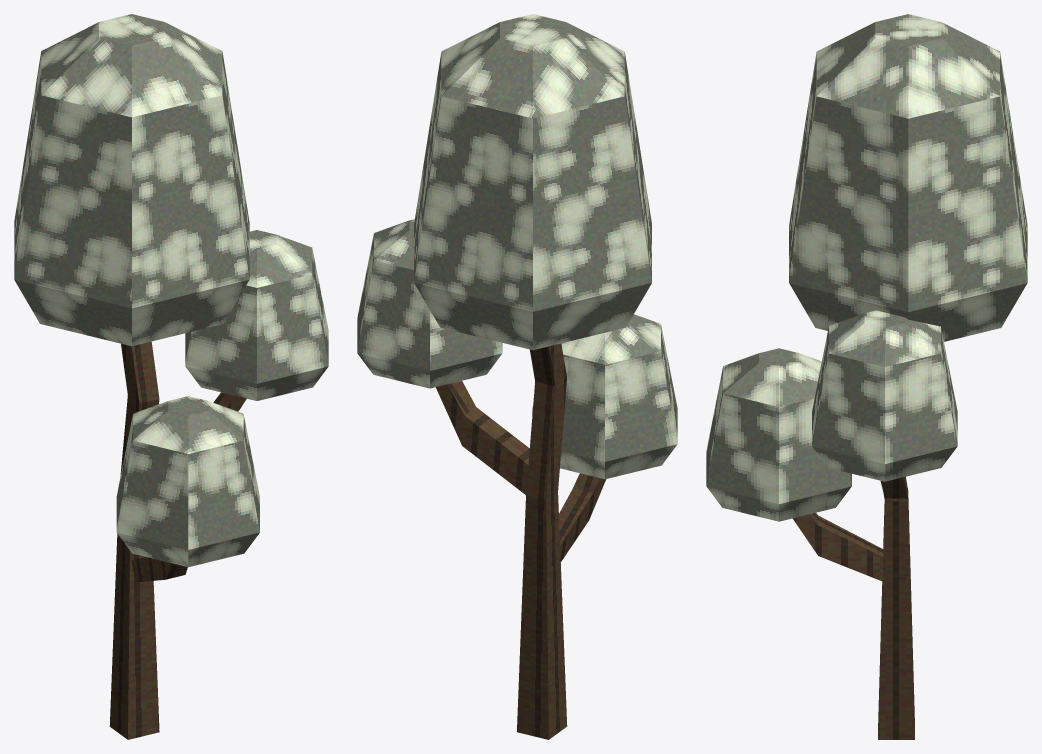
File: eucalipto.glb
3 views of the same model, side by side, from view 1: azimuth 30°, elevation 25°; view 2: azimuth 150°, elevation 25°; view 3: azimuth 270°, elevation 25° (orthographic).
Parts seen in each view (by area): view 1: eucalipto; view 2: eucalipto; view 3: eucalipto.
Part boxes in pixels (x1,y1,x2,y2): eucalipto: (14,14,328,739); eucalipto: (357,14,677,739); eucalipto: (706,14,1027,739).
Bounding box in the file's own units: 6.85 × 15 × 6.21.
2 materials, 2 textured.
